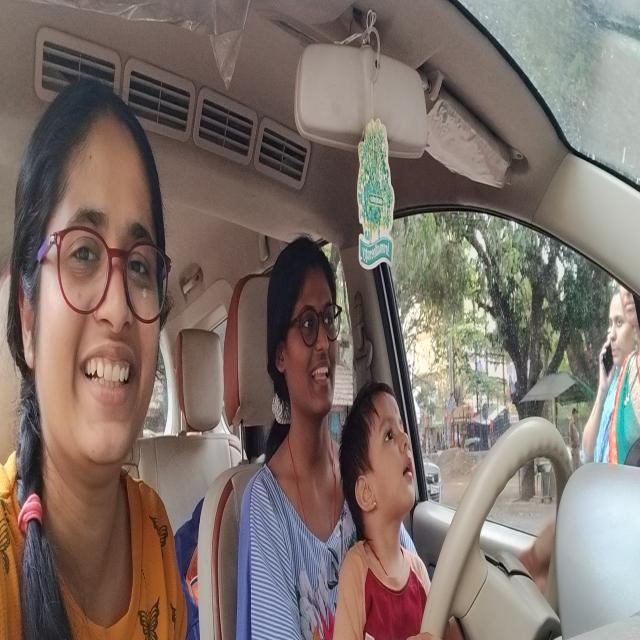child: (346, 382, 423, 522)
person: (24, 70, 167, 471), (266, 238, 339, 420)
